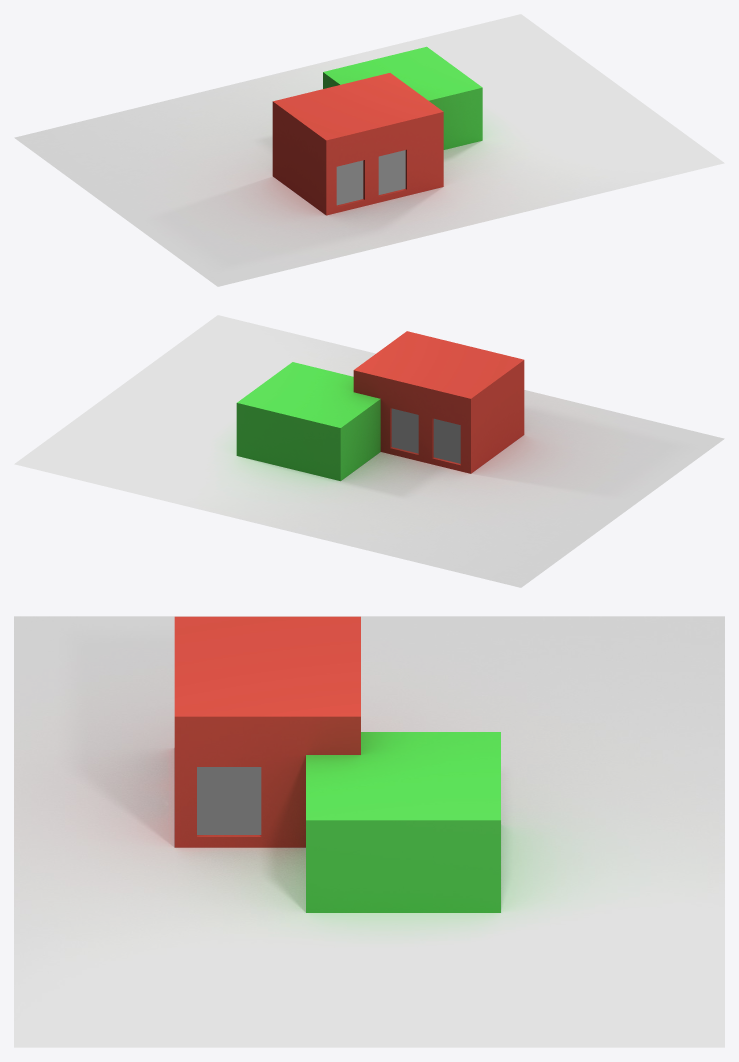
3 renders of one model, top to bottom at view 1: azimuth 30°, elevation 25°; view 2: azimuth 150°, elevation 25°; view 3: azimuth 270°, elevation 25°, orthographic. The views are drawn at different scales.
Parts seen in each view (by area): view 1: lot, ext_big, ext_small, windows; view 2: lot, ext_big, ext_small, windows; view 3: lot, ext_small, ext_big, windows.
Part boxes in pixels (x1=…): lot: x1=14, y1=14, x2=724, y2=286; ext_big: x1=272, y1=73, x2=443, y2=215; ext_small: x1=323, y1=46, x2=482, y2=149; windows: x1=336, y1=150, x2=405, y2=205; lot: x1=14, y1=315, x2=724, y2=587; ext_big: x1=353, y1=331, x2=524, y2=473; ext_small: x1=236, y1=362, x2=380, y2=480; windows: x1=391, y1=408, x2=460, y2=463; lot: x1=14, y1=616, x2=724, y2=1047; ext_small: x1=306, y1=732, x2=500, y2=912; ext_big: x1=174, y1=616, x2=360, y2=847; windows: x1=197, y1=767, x2=261, y2=834.
Size of the model in its own units: 11.95 by 1.69 by 8.32.
6 materials, 4 textured.
